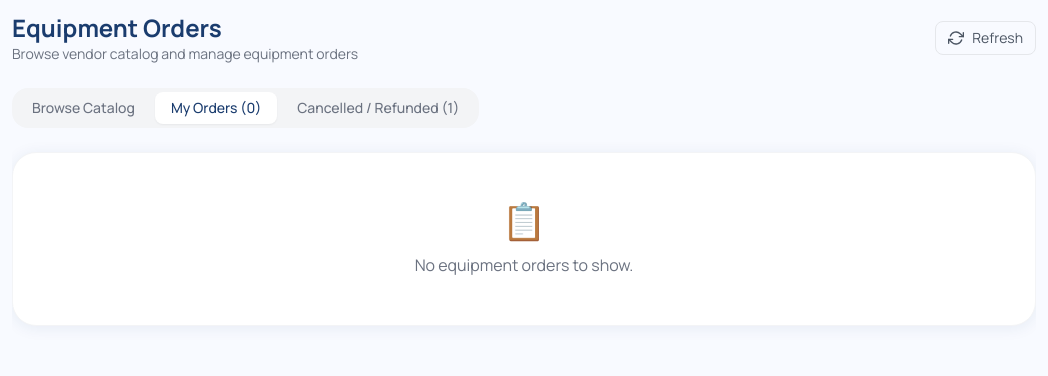
hospital can confirm cancellation from My Orders
This screenshot has width=1048, height=376.
Earlier steps of the test are not shown.
Expected: the button "My Orders (0)" is shown, [155,92,277,124]
Click the button "Cancelled / Refunded (1)".
click(378, 108)  # box [281,92,475,124]
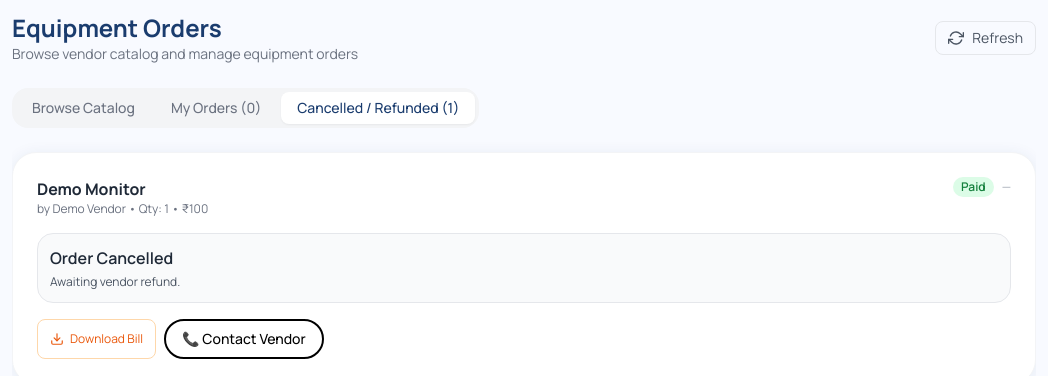
Result: the text "Order Cancelled" is shown at [50,247,173,269]
Result: the text "Awaiting vendor refund." is shown at [50,273,180,290]
